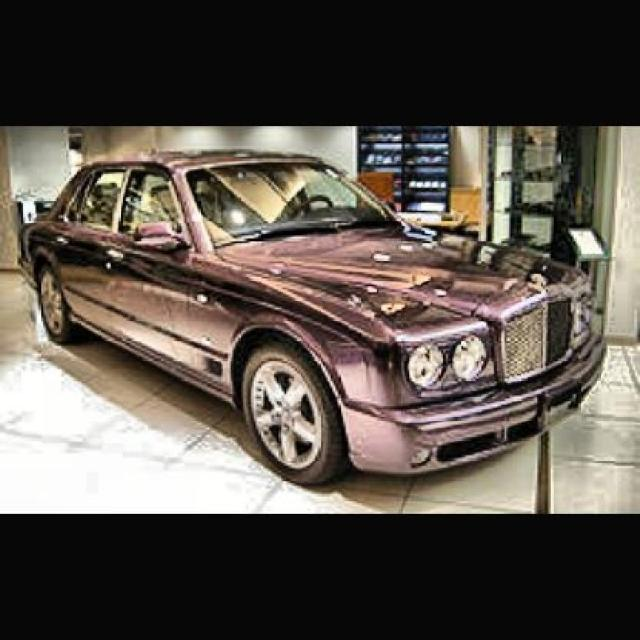maroon: (18, 154, 606, 483)
